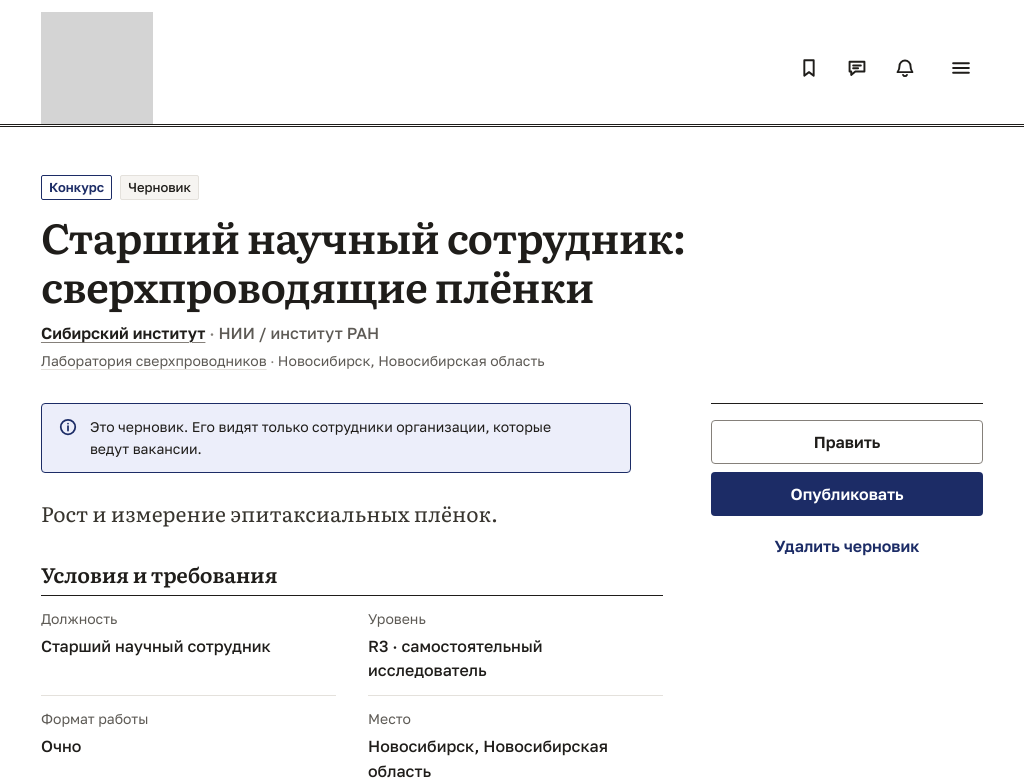
managing a vacancy from its page › reports another failure with a message and keeps the page
Click the button "Опубликовать": (847, 494) left=711, top=472, right=983, bottom=516
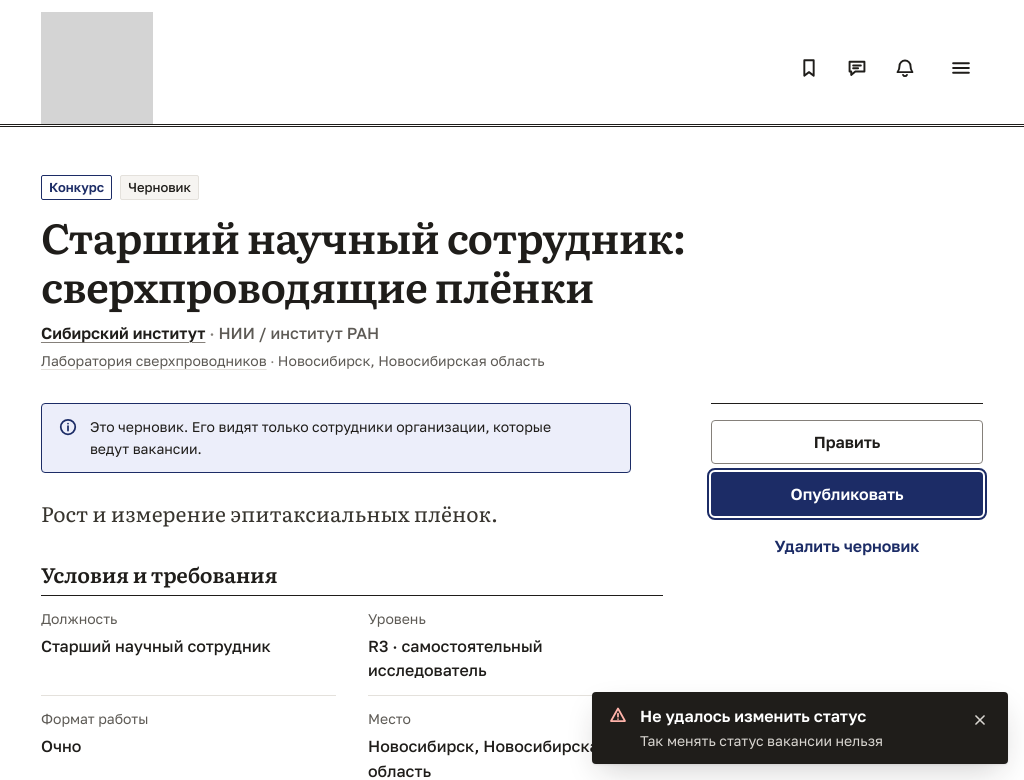
Result: the text "Не удалось изменить статус" is shown at left=640, top=706, right=866, bottom=726
Result: the text "Так менять статус вакансии нельзя" is shown at left=640, top=732, right=883, bottom=749
